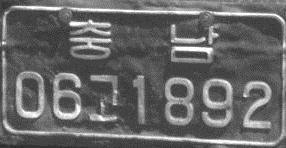0: (14, 70, 46, 120)
1: (125, 74, 156, 125)
2: (241, 80, 272, 127)
6: (51, 72, 80, 120)
8: (163, 77, 193, 126)
9: (200, 78, 233, 129)
고: (88, 74, 118, 121)
충남_D: (68, 18, 219, 63)
